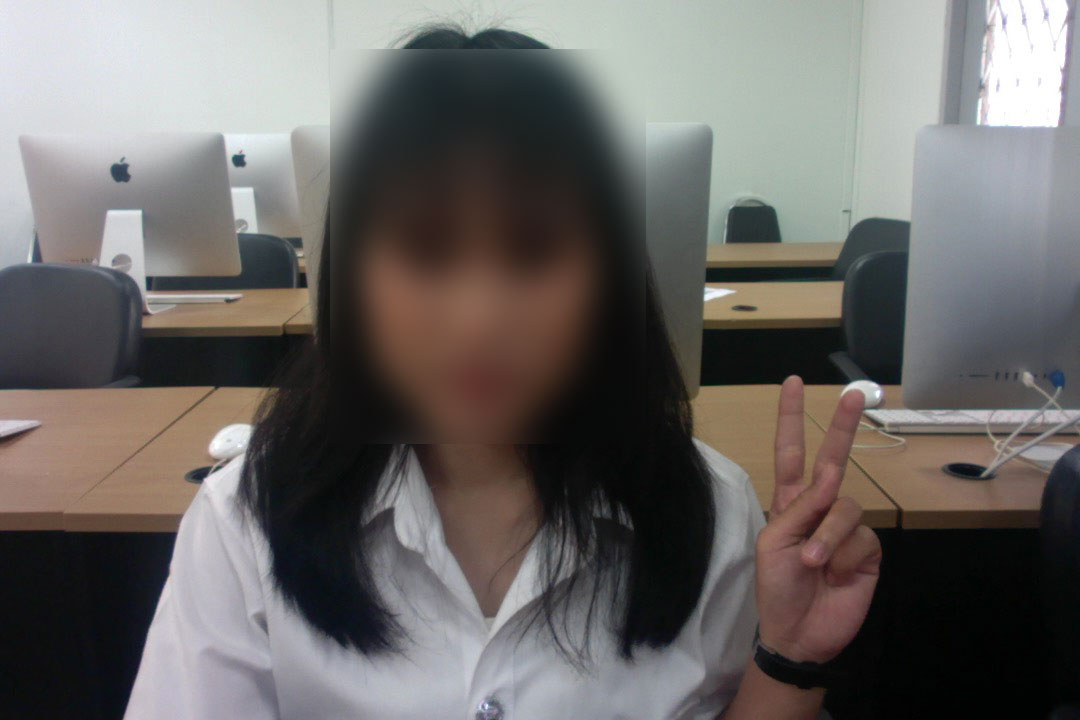ko: (748, 364, 896, 684)
